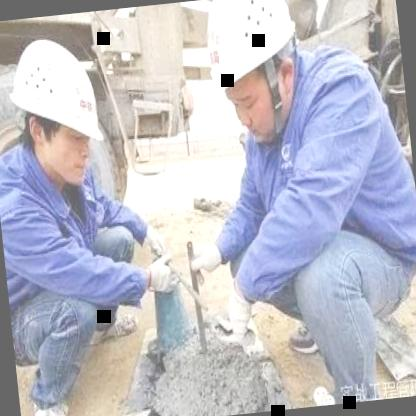helmet: (0, 25, 114, 195), (192, 0, 314, 148)
